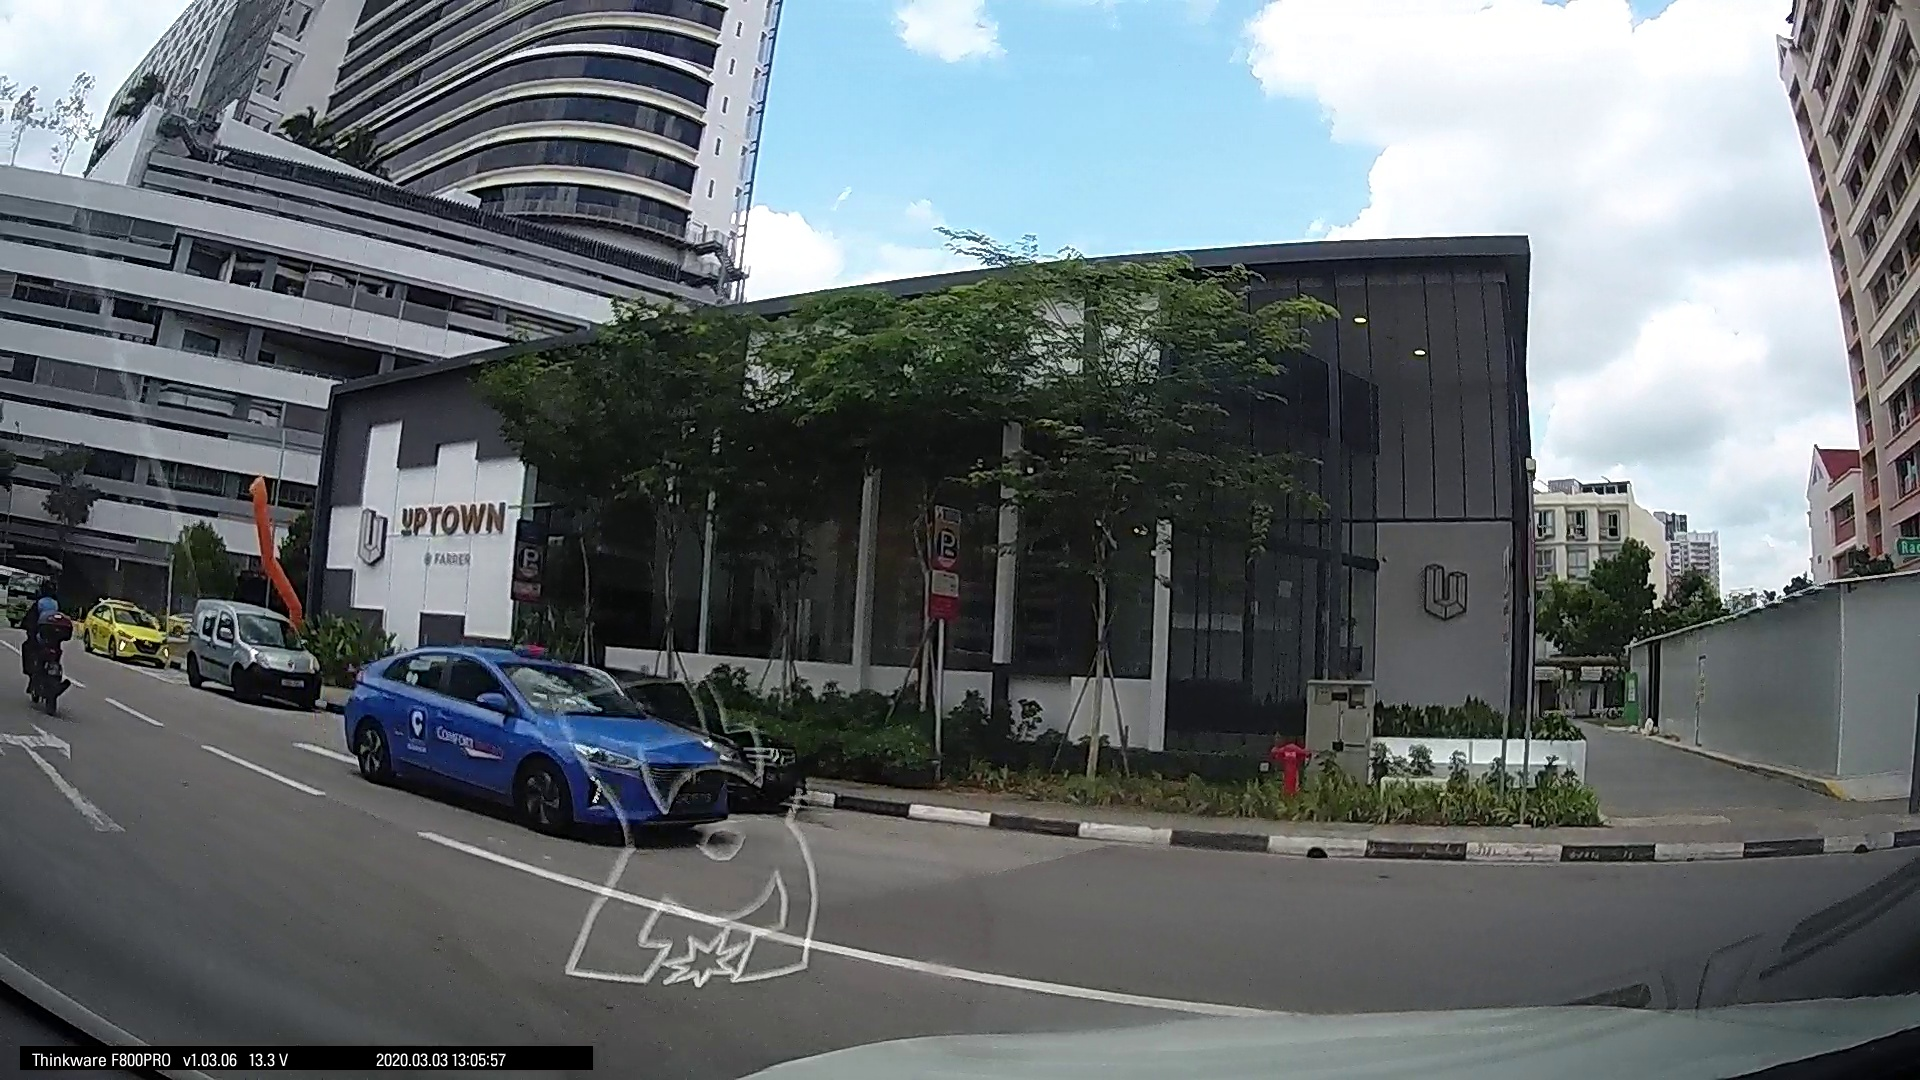Light Vehicle: (324, 640, 767, 841), (174, 592, 319, 709), (76, 593, 171, 666)
Motorcycle: (12, 571, 78, 720)
